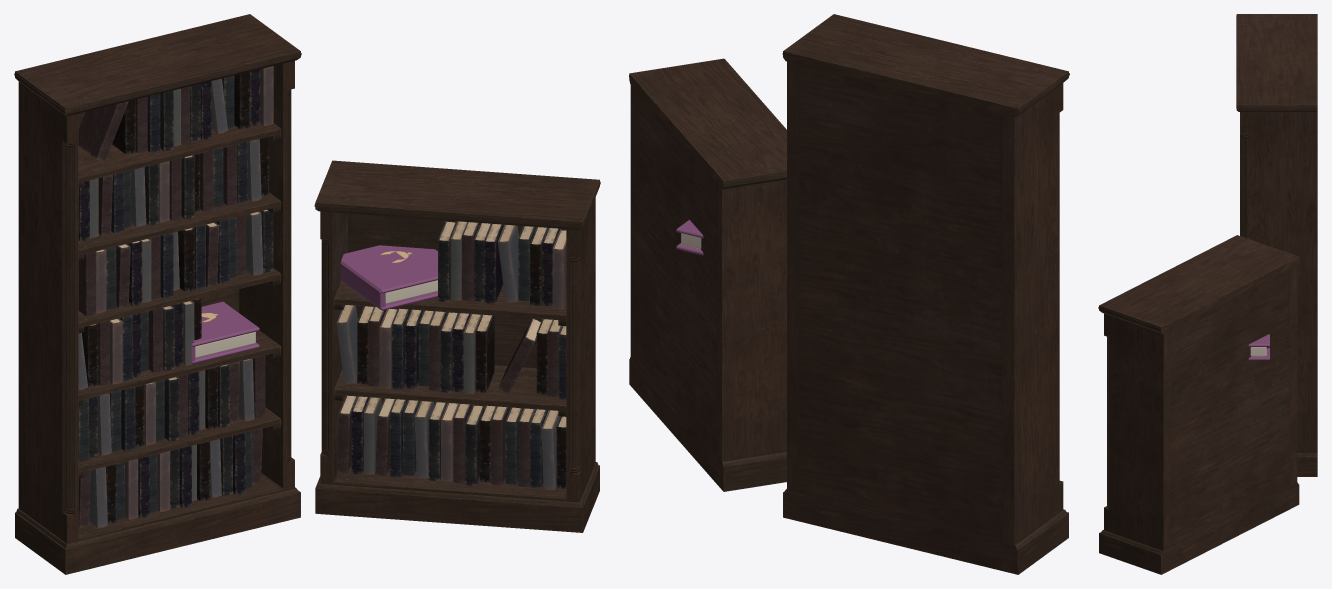
Rendered from wooden-bookcases-with-diary.glb.
The picture shows the model from 3 angles, left to right: view 1: azimuth 30°, elevation 25°; view 2: azimuth 150°, elevation 25°; view 3: azimuth 270°, elevation 25°; orthographic projection. The views are drawn at different scales.
Visible parts, largest first — view 1: Victorian Bookcase Tall, Victorian Bookcase Small, Victorian Bookcase Small Books 1, Victorian Bookcase Tall Books 5, Victorian Bookcase Small Books 2, Victorian Bookcase Tall Books 2, Victorian Bookcase Tall Books 6, Victorian Bookcase Tall Books 1, Victorian Bookcase Tall Books 7, Victorian Bookcase Small Books 4, Victorian Bookcase Tall Books 3, Victorian Bookcase Tall Corner (+6 smaller); view 2: Victorian Bookcase Tall, Victorian Bookcase Small, Victorian Bookcase Tall Corner; view 3: Victorian Bookcase Small, Victorian Bookcase Tall, Victorian Bookcase Tall Corner, Victorian Bookcase Small Corner.
Part boxes in pixels (box(x1,y1,x2,y2)): Victorian Bookcase Tall: box(14, 14, 301, 574); Victorian Bookcase Small: box(314, 160, 600, 532); Victorian Bookcase Small Books 1: box(337, 395, 566, 490); Victorian Bookcase Tall Books 5: box(78, 210, 273, 316); Victorian Bookcase Small Books 2: box(336, 305, 494, 393); Victorian Bookcase Tall Books 2: box(78, 355, 265, 461); Victorian Bookcase Tall Books 6: box(78, 137, 268, 240); Victorian Bookcase Tall Books 1: box(78, 428, 262, 527); Victorian Bookcase Tall Books 7: box(78, 66, 273, 161); Victorian Bookcase Small Books 4: box(438, 221, 566, 309); Victorian Bookcase Tall Books 3: box(78, 298, 201, 390); Victorian Bookcase Tall Corner: box(63, 89, 291, 513); Victorian Bookcase Tall: box(782, 14, 1069, 574); Victorian Bookcase Small: box(629, 58, 786, 491); Victorian Bookcase Tall Corner: box(1058, 113, 1059, 483); Victorian Bookcase Small: box(1098, 235, 1299, 574); Victorian Bookcase Tall: box(1236, 14, 1317, 476); Victorian Bookcase Tall Corner: box(1240, 134, 1247, 238); Victorian Bookcase Small Corner: box(1107, 336, 1109, 508).
Size of the model in its own units: 1.97 by 1.8 by 0.9618.
4 materials, 1 textured.
